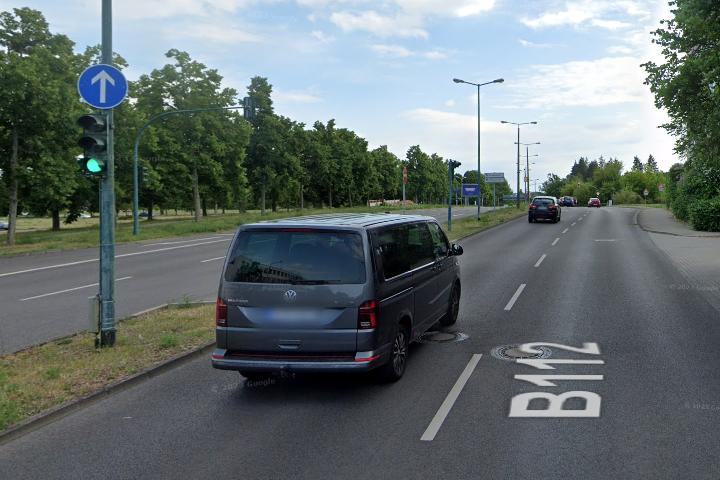traffic_sign: (78, 63, 129, 111)
vehicle: (211, 209, 466, 388), (527, 195, 562, 224)
